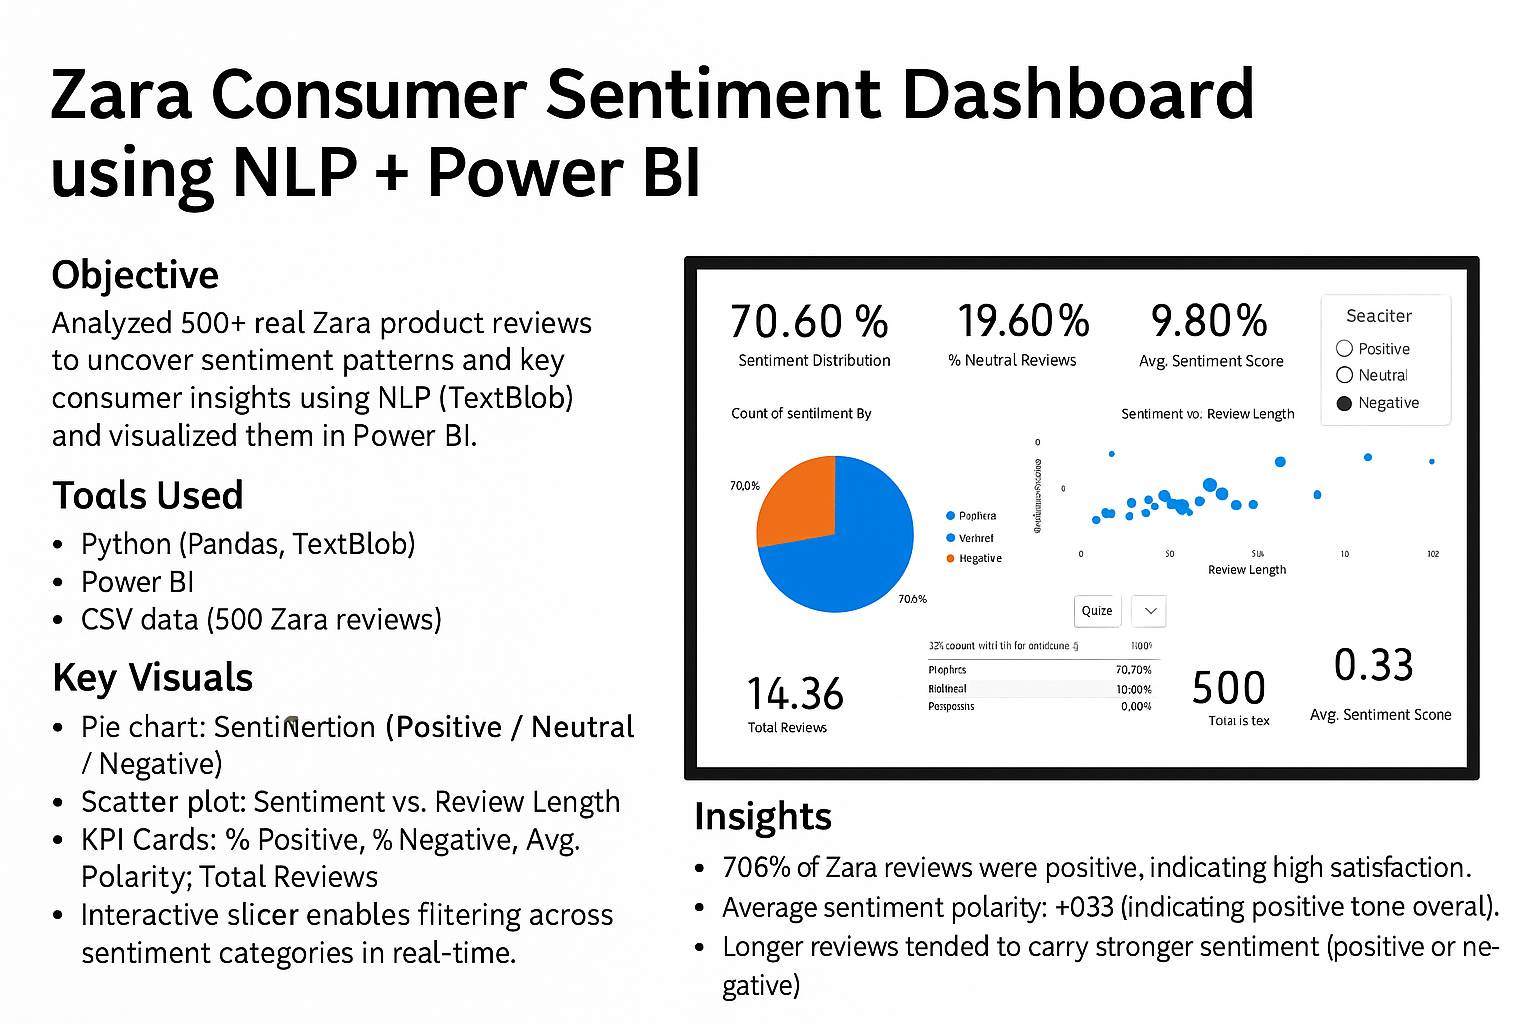

The page's visual inventory and layout, read from the dashboard file:
{"tool":"powerbi","page":{"name":"Page 1","canvas":[1280,720],"ordinal":0},"visuals":[{"type":"pieChart","fields":{"Category":["zara_reviews_with_sentiment.sentiment"],"Y":["CountNonNull(zara_reviews_with_sentiment.sentiment)"],"Series":["zara_reviews_with_sentiment.sentiment"]},"box":[18.9,164.4,415.8,391.2],"z":0},{"type":"card","title":"SumOfPolarity","fields":{"Values":["Sum(zara_reviews_with_sentiment.polarity)"]},"box":[810.7,0,249.5,130.4],"z":1000},{"type":"scatterChart","fields":{"X":["Sum(zara_reviews_with_sentiment.ReviewLength)"],"Y":["Sum(zara_reviews_with_sentiment.polarity)"],"Series":["zara_reviews_with_sentiment.sentiment"],"Size":["Sum(zara_reviews_with_sentiment.polarity)"],"Category":["zara_reviews_with_sentiment.review"]},"box":[504.6,153.1,455.4,302.4],"z":2000},{"type":"tableEx","fields":{"Values":["zara_reviews_with_sentiment.review","Sum(zara_reviews_with_sentiment.polarity)"]},"box":[806.9,455.4,461.1,264.6],"z":3000},{"type":"card","title":"totalreviews","fields":{"Values":["zara_reviews_with_sentiment.TotalReviews"]},"box":[1037.5,0,241.9,130.4],"z":4000},{"type":"card","title":"PositivePercent","fields":{"Values":["zara_reviews_with_sentiment.PositivePercent"]},"box":[209.8,0,209.8,130.4],"z":5000},{"type":"card","title":"NeutralPercent","fields":{"Values":["zara_reviews_with_sentiment.Neutral_Percent"]},"box":[0,0,209.8,130.4],"z":5001},{"type":"card","title":"NegativePercent","fields":{"Values":["zara_reviews_with_sentiment.Negative_Percent"]},"box":[419.5,0,209.8,130.4],"z":5002},{"type":"card","title":"AveragePolarity","fields":{"Values":["zara_reviews_with_sentiment.AveragePolarity"]},"box":[608.5,0,209.8,130.4],"z":5003},{"type":"funnel","fields":{"Category":["zara_reviews_with_sentiment.sentiment"],"Y":["CountNonNull(zara_reviews_with_sentiment.sentiment)"]},"box":[1026.1,153.1,241.9,302.4],"z":5004}]}

Visuals, with their boxes on the page's 1280x720 design canvas (x1, y1, x2, y2). These are canvas units, not pixel positions in the 1536x1024 screenshot, which may show the page scaled, cropped or inside an application window:
pieChart - zara_reviews_with_sentiment.sentiment x CountNonNull(zara_reviews_with_sentiment.sentiment): pyautogui.locateOnScreen(19, 164, 435, 556)
"SumOfPolarity" card: pyautogui.locateOnScreen(811, 0, 1060, 130)
scatterChart - Sum(zara_reviews_with_sentiment.ReviewLength) x Sum(zara_reviews_with_sentiment.polarity): pyautogui.locateOnScreen(505, 153, 960, 456)
tableEx - zara_reviews_with_sentiment.review x Sum(zara_reviews_with_sentiment.polarity): pyautogui.locateOnScreen(807, 455, 1268, 720)
"totalreviews" card: pyautogui.locateOnScreen(1038, 0, 1279, 130)
"PositivePercent" card: pyautogui.locateOnScreen(210, 0, 420, 130)
"NeutralPercent" card: pyautogui.locateOnScreen(0, 0, 210, 130)
"NegativePercent" card: pyautogui.locateOnScreen(420, 0, 629, 130)
"AveragePolarity" card: pyautogui.locateOnScreen(608, 0, 818, 130)
funnel - zara_reviews_with_sentiment.sentiment x CountNonNull(zara_reviews_with_sentiment.sentiment): pyautogui.locateOnScreen(1026, 153, 1268, 456)
